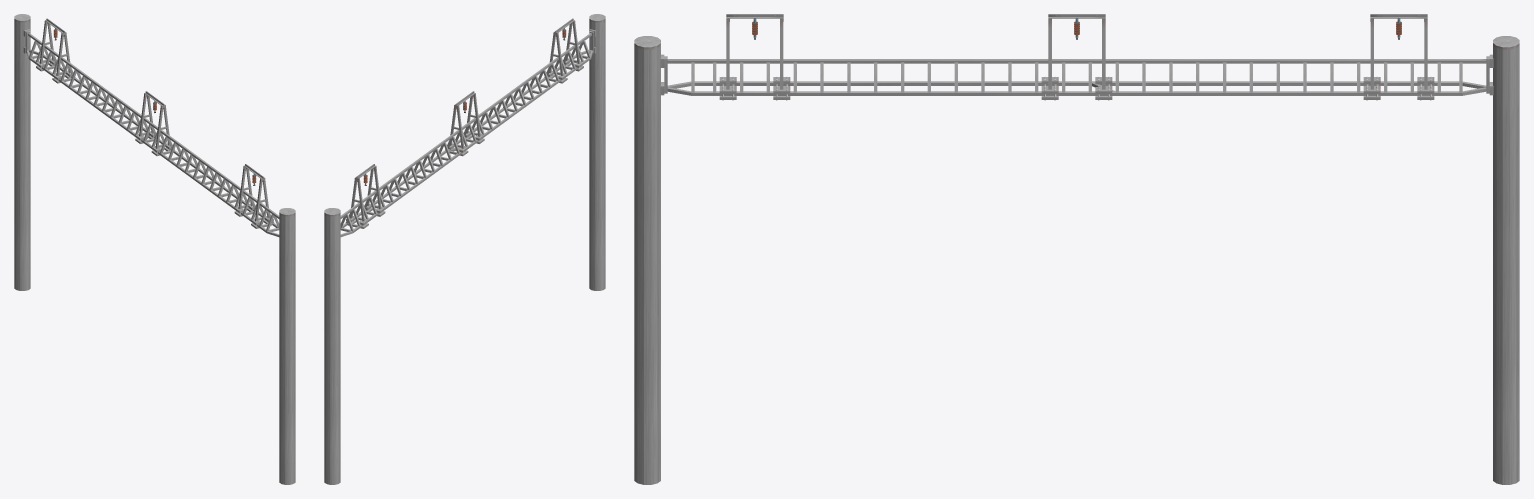
Rendered from gantry_17.obj.
3 renders of one model, left to right at view 1: azimuth 30°, elevation 25°; view 2: azimuth 150°, elevation 25°; view 3: azimuth 270°, elevation 25°, orthographic. The views are drawn at different scales.
Parts seen in each view (by area): view 1: cylinder, cube, cuboid; view 2: cylinder, cube, cuboid; view 3: cylinder, cube, cuboid.
Boxes of the visible parts, x1=… form: cylinder: x1=14, y1=14, x2=295, y2=484; cube: x1=23, y1=29, x2=279, y2=236; cuboid: x1=36, y1=18, x2=273, y2=228; cylinder: x1=324, y1=14, x2=605, y2=484; cube: x1=340, y1=29, x2=596, y2=236; cuboid: x1=346, y1=18, x2=583, y2=228; cylinder: x1=634, y1=15, x2=1519, y2=484; cube: x1=660, y1=54, x2=1493, y2=95; cuboid: x1=719, y1=14, x2=1434, y2=99.
Size of the model in its own units: 0.625 by 9.56 by 16.5.
1 material, 1 textured.
